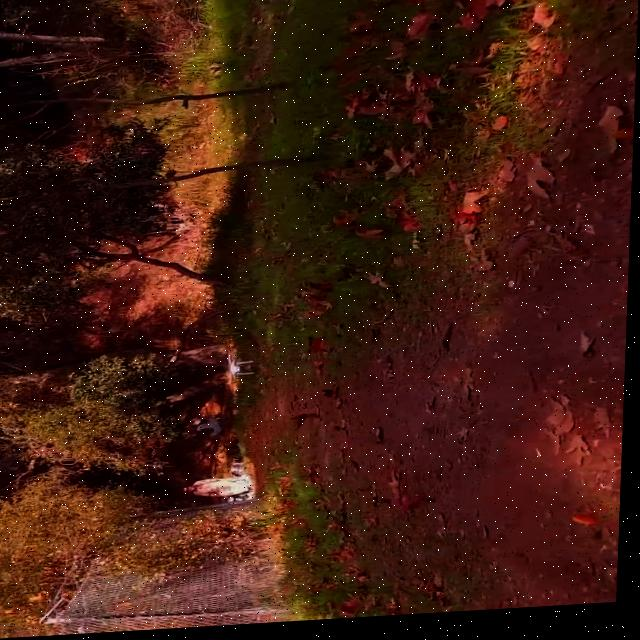drone: (224, 356, 259, 389)
